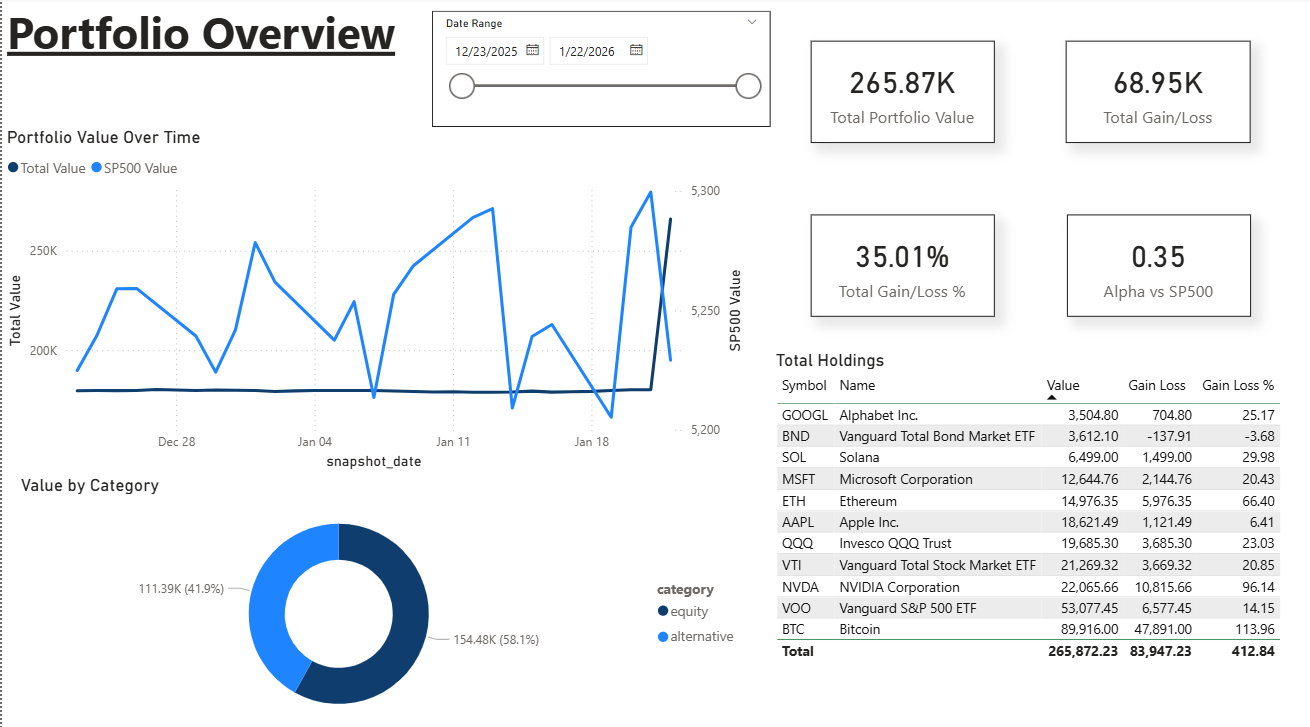

Layout of this report page (visuals, bound fields, positions):
{"tool":"powerbi","page":{"name":"Portfolio Overview","canvas":[1280,720],"ordinal":0},"visuals":[{"type":"card","fields":{"Values":["_Measures.Total Portfolio Value"]},"box":[791.2,42.8,179.8,100.3],"z":0},{"type":"card","fields":{"Values":["_Measures.Total Gain Loss"]},"box":[1040.6,42.8,181,100.3],"z":3000},{"type":"card","fields":{"Values":["_Measures.Total Gain Loss Pct"]},"box":[791.2,212.8,179.8,100.3],"z":4000},{"type":"donutChart","title":"Value by Category","fields":{"Category":["v_allocation_summary.category"],"Y":["Sum(v_allocation_summary.total_value)"]},"box":[13.7,466.6,716.3,253.9],"z":5000},{"type":"lineChart","title":"Portfolio Value Over Time","fields":{"Y":["Sum(portfolio_snapshots.total_value)"],"Y2":["_Measures.SP500 Value"],"Category":["portfolio_snapshots.snapshot_date"]},"box":[0,127.2,730,339.9],"z":6000},{"type":"tableEx","title":"Total Holdings","fields":{"Values":["v_portfolio_current.symbol","v_portfolio_current.asset_name","Sum(v_portfolio_current.current_value)","Sum(v_portfolio_current.gain_loss)","Sum(v_portfolio_current.gain_loss_pct)"]},"box":[752,344.8,518.5,332.6],"z":7000},{"type":"textbox","box":[0,0,450,70.9],"z":8000},{"type":"card","fields":{"Values":["_Measures.Alpha vs SP500"]},"box":[1041.9,212.8,179.8,100.3],"z":9000},{"type":"slicer","fields":{"Values":["portfolio_snapshots.snapshot_date"]},"box":[420.7,13.5,331.4,113.7],"z":9001}]}

Visuals, with their boxes in screenshot pixels (x1, y1, x2, y2), scaled from the page's 1280x720 canvas onto the 1310x727 screenshot:
card - _Measures.Total Portfolio Value: box(810, 43, 994, 144)
card - _Measures.Total Gain Loss: box(1065, 43, 1250, 144)
card - _Measures.Total Gain Loss Pct: box(810, 215, 994, 316)
"Value by Category" donutChart: box(14, 471, 747, 726)
"Portfolio Value Over Time" lineChart: box(0, 128, 747, 472)
"Total Holdings" tableEx: box(770, 348, 1300, 684)
textbox: box(0, 0, 461, 72)
card - _Measures.Alpha vs SP500: box(1066, 215, 1250, 316)
slicer - portfolio_snapshots.snapshot_date: box(431, 14, 770, 128)
